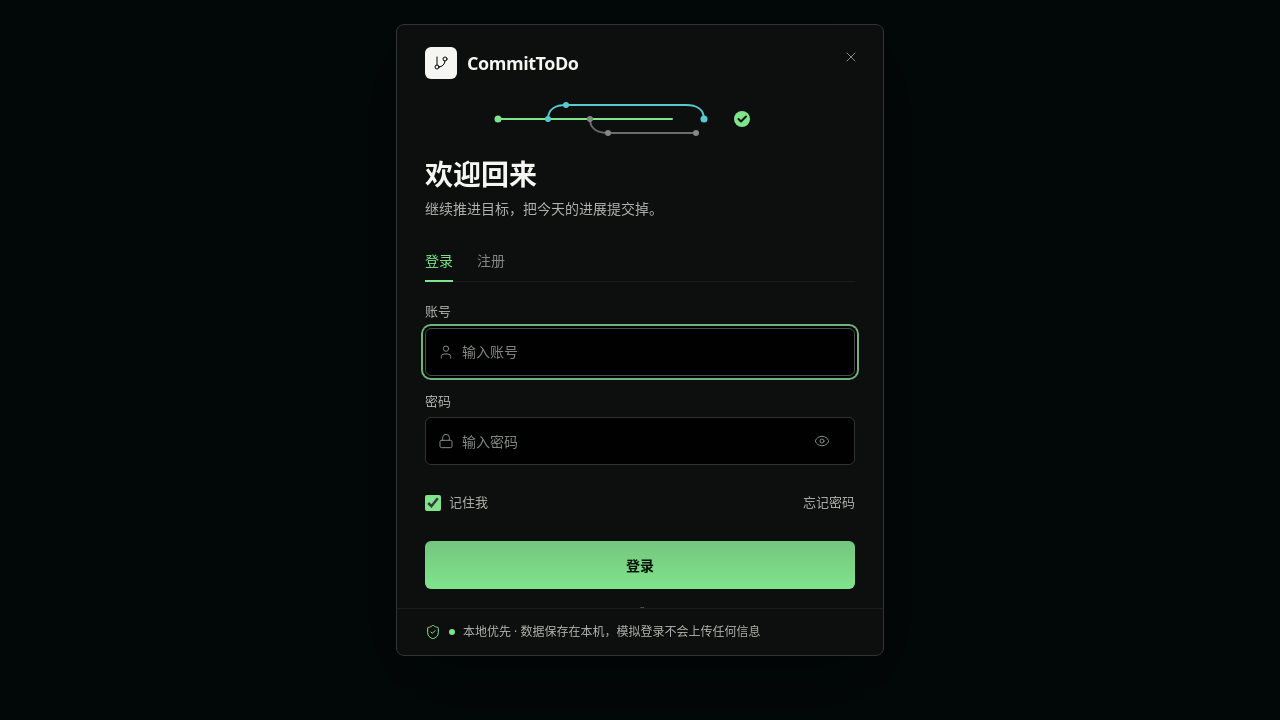
Test: AuthDialog structure › switches to the forgot-password view within the same dialog
The image size is (1280, 720).
Click the button "忘记密码" at (829, 503), box [803,493,855,513]
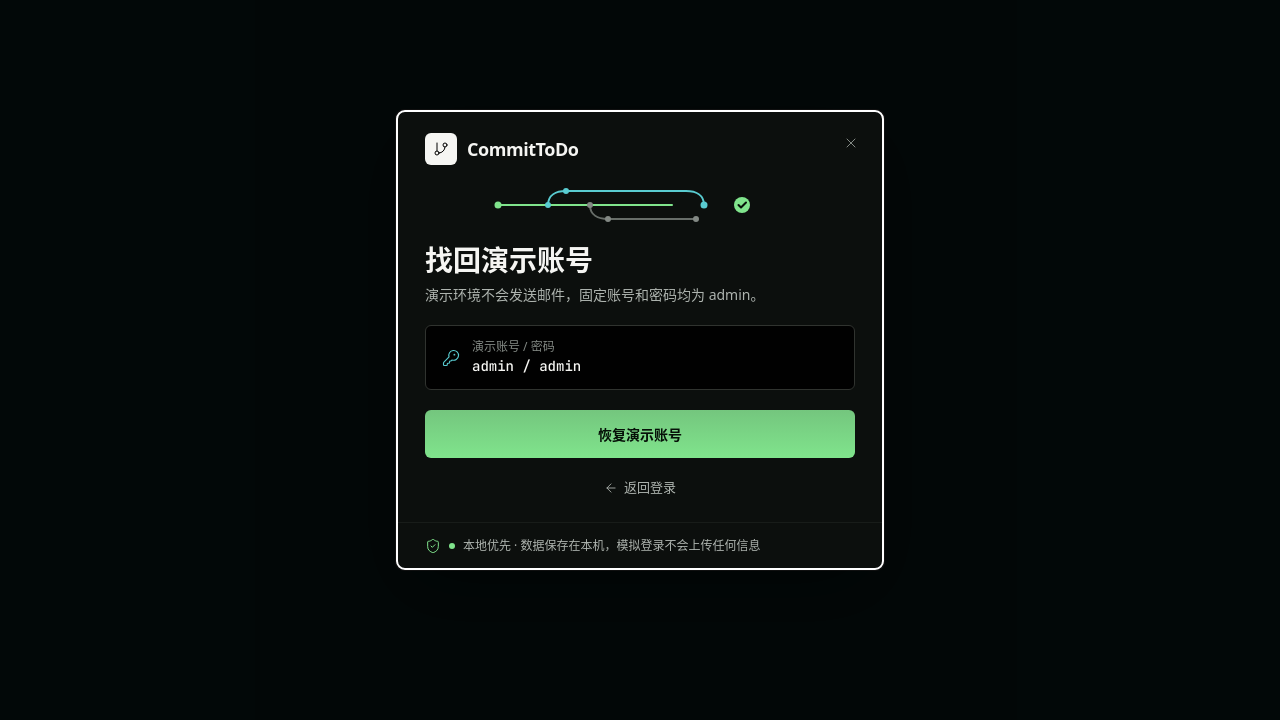
Expected: the heading "找回演示账号" is shown, [425,241,593,279]
Expected: the text "admin / admin" is shown, [472,356,581,377]
Expected: no tabs are shown
